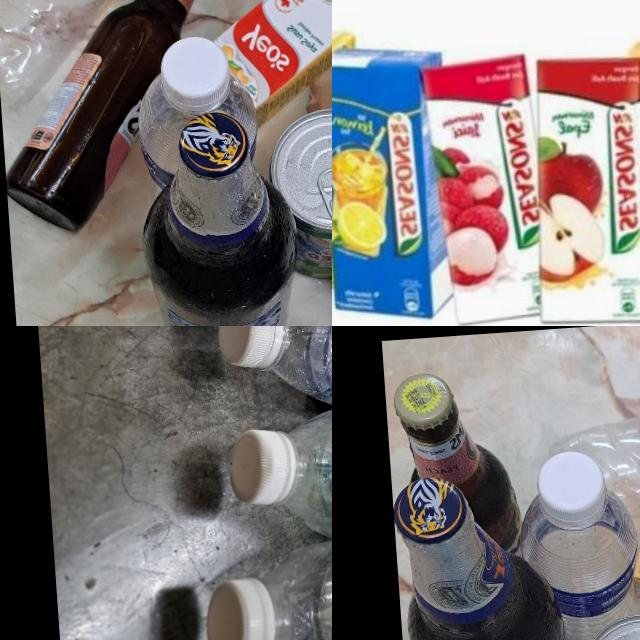aba de lata: (323, 167, 332, 222)
caixinha: (332, 42, 459, 326), (428, 40, 544, 326), (525, 49, 640, 326), (332, 14, 375, 294)
garrafa de vidro: (0, 0, 237, 233), (133, 107, 299, 326), (391, 466, 585, 640), (392, 366, 524, 567)
garrafa plástica: (513, 484, 640, 640), (0, 0, 181, 104), (138, 77, 262, 211), (547, 389, 640, 513), (277, 397, 332, 547)
lata: (274, 106, 332, 279)
tampa plástica: (535, 449, 607, 524), (227, 427, 290, 507), (203, 575, 273, 640), (214, 326, 276, 370)
